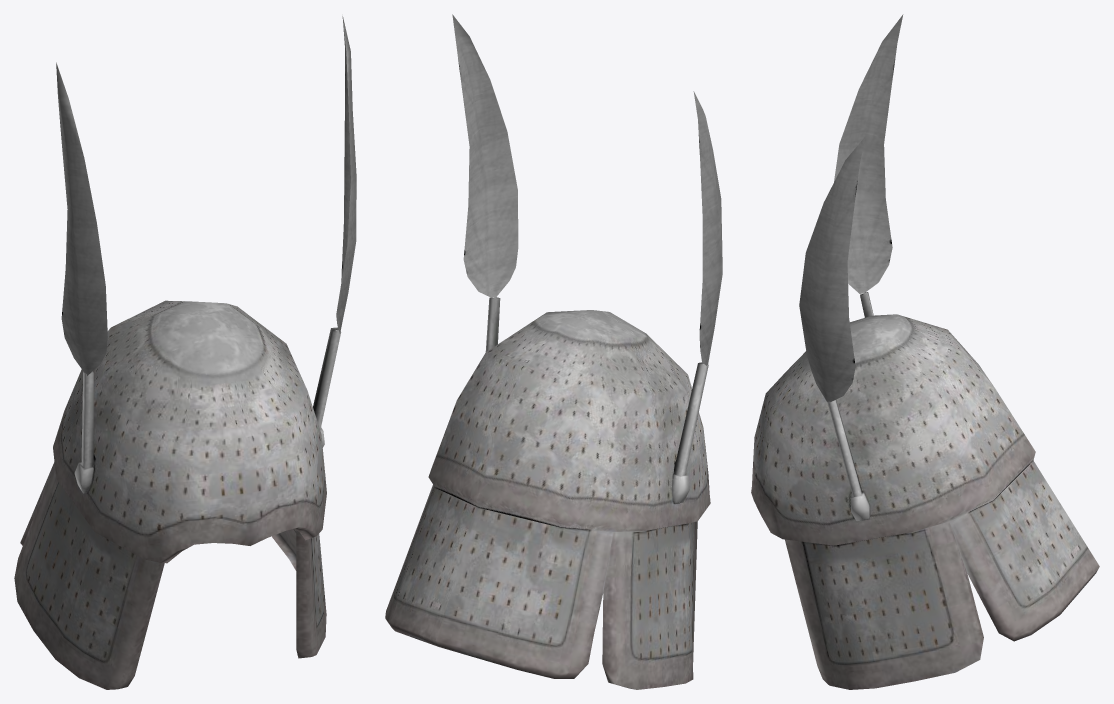
The model's file is rider-helmet-slice-championcavalry.glb.
3 renders of one model, left to right at view 1: azimuth 30°, elevation 25°; view 2: azimuth 150°, elevation 25°; view 3: azimuth 270°, elevation 25°, orthographic. The views are drawn at different scales.
Bounding box in the file's own units: 0.2732 × 0.5885 × 0.3248.
Materials: 1 (1 with a texture image).
